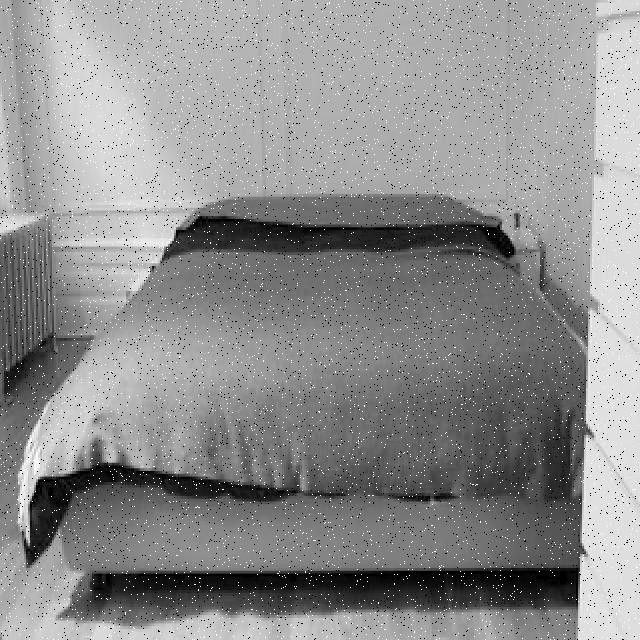bed: (39, 179, 581, 576)
